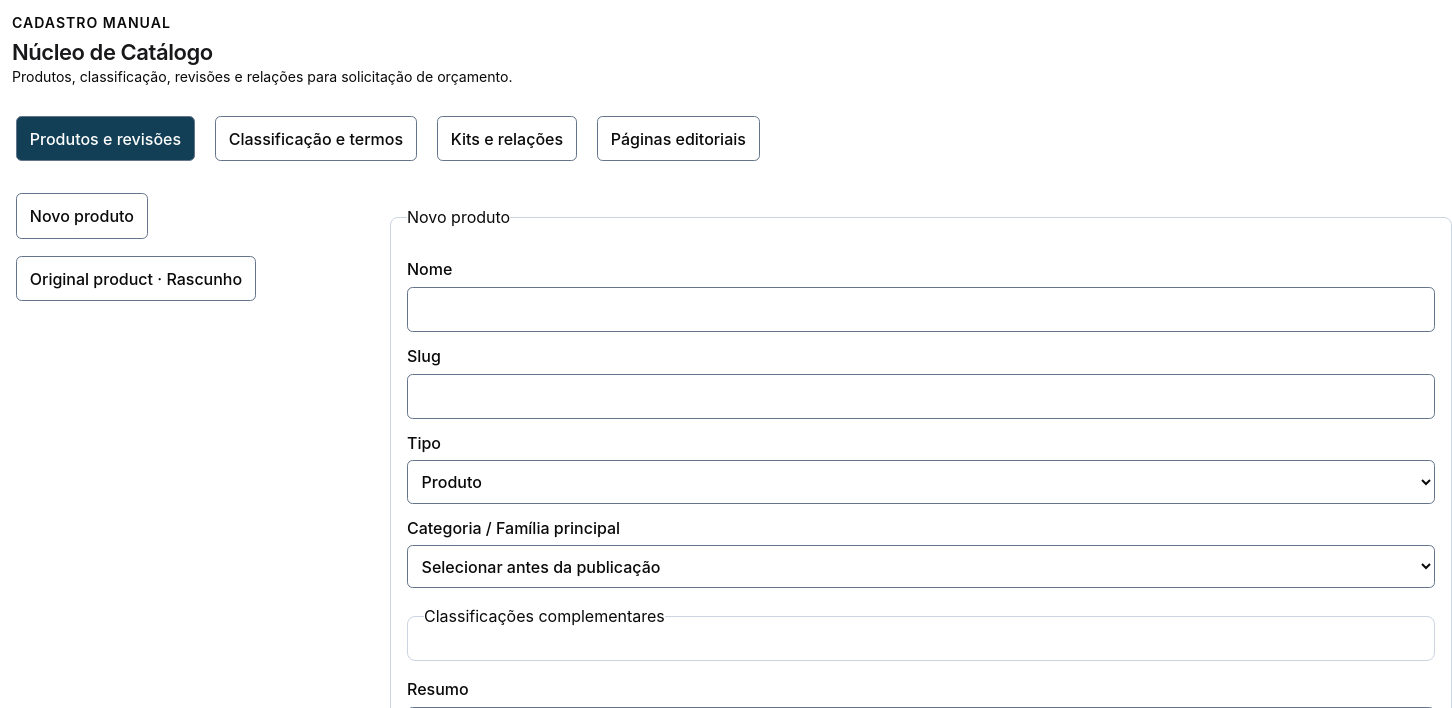
it: catalog workspace user flows › blocks lifecycle actions while there are unsaved edits and hides administrator actions
Click the button "Original product · Rascunho" at (136, 279), box [16,256,256,301]
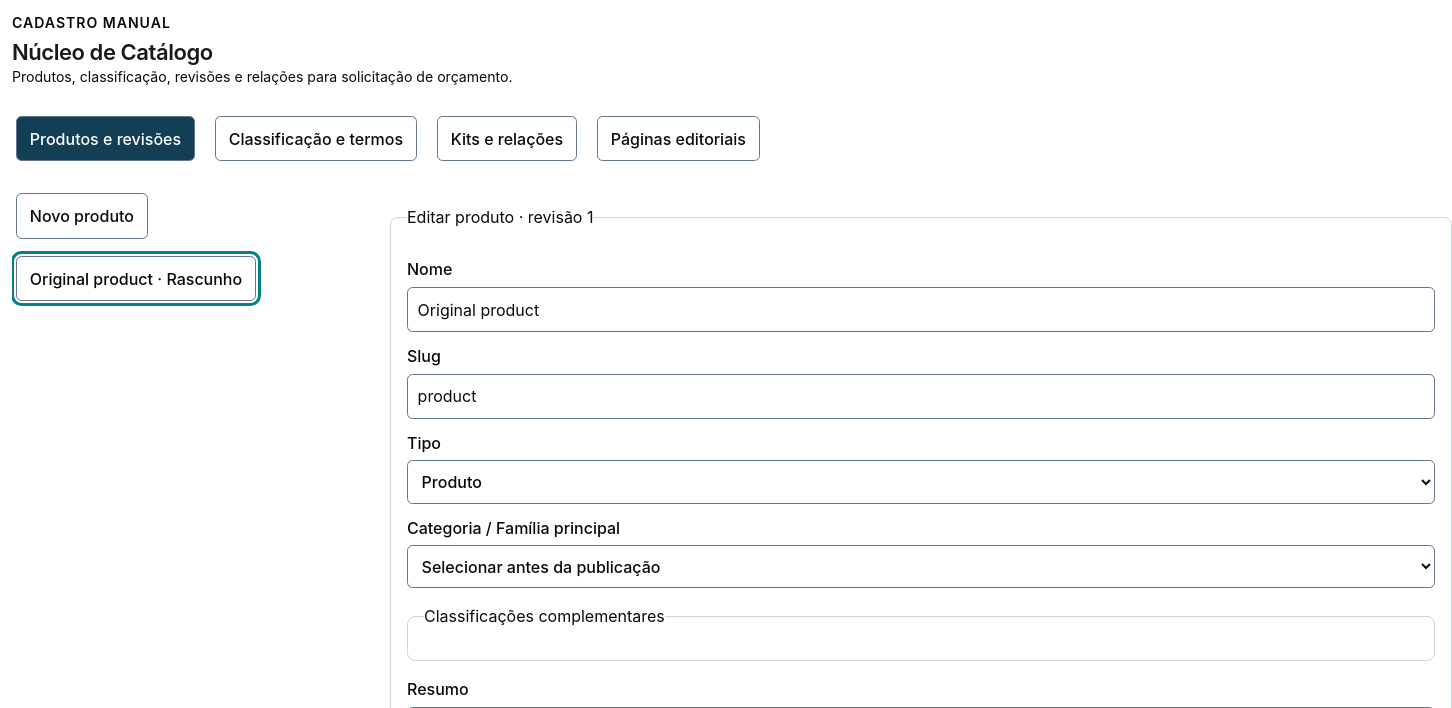
Type " edited" into the field labelled "Nome" at (921, 310), box [407,287,1435,332]
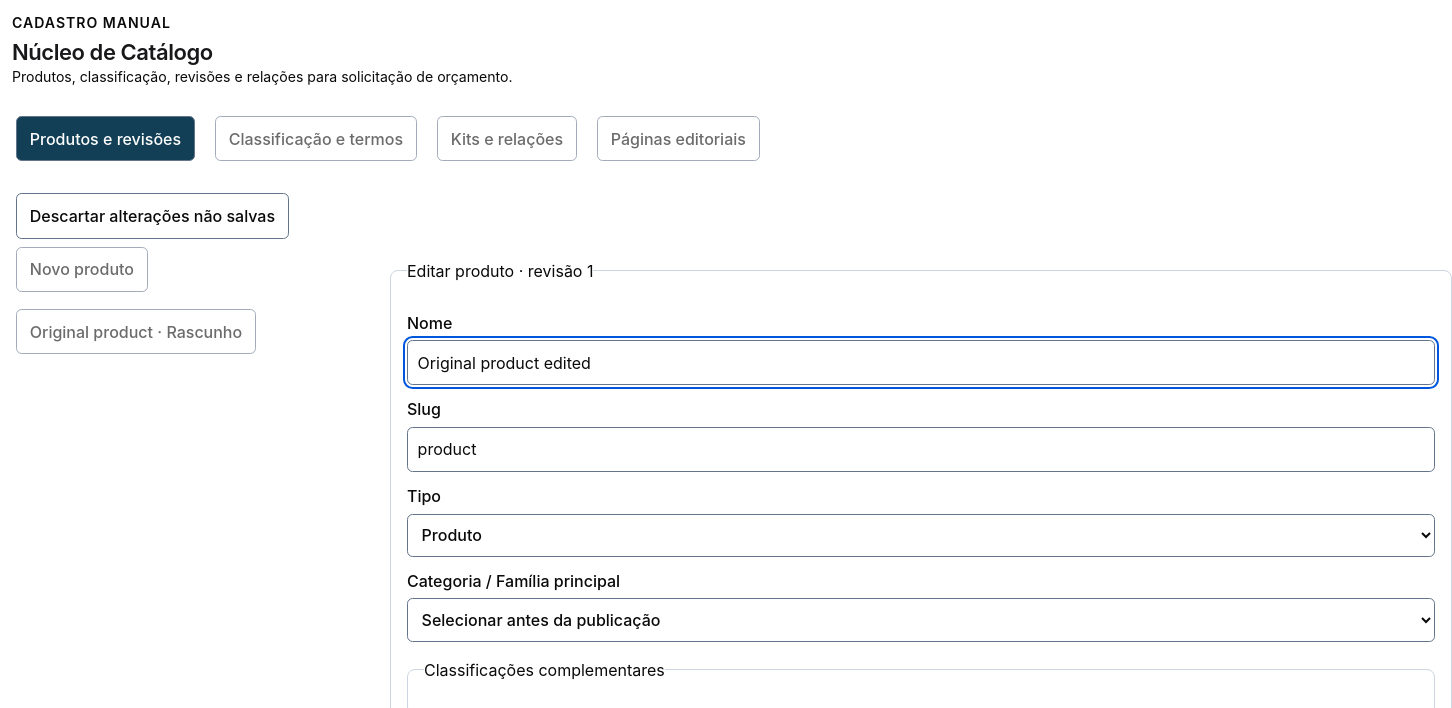
expect the button "Classificação e termos" is disabled: met, box [215,116,417,161]
